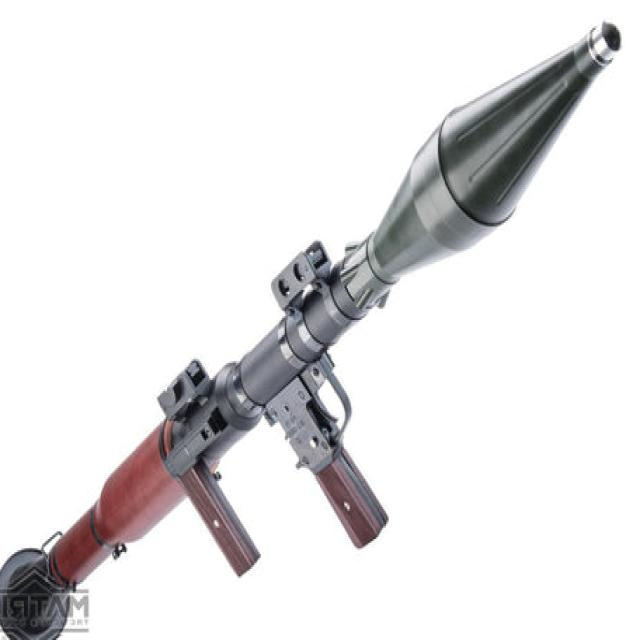Gun: (0, 18, 621, 640)
